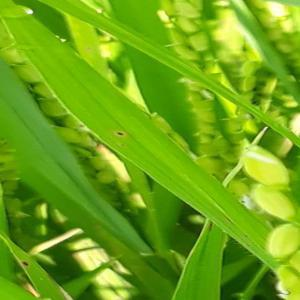0 BrownSpot: (112, 129, 127, 139), (19, 258, 32, 269), (243, 232, 250, 239)
